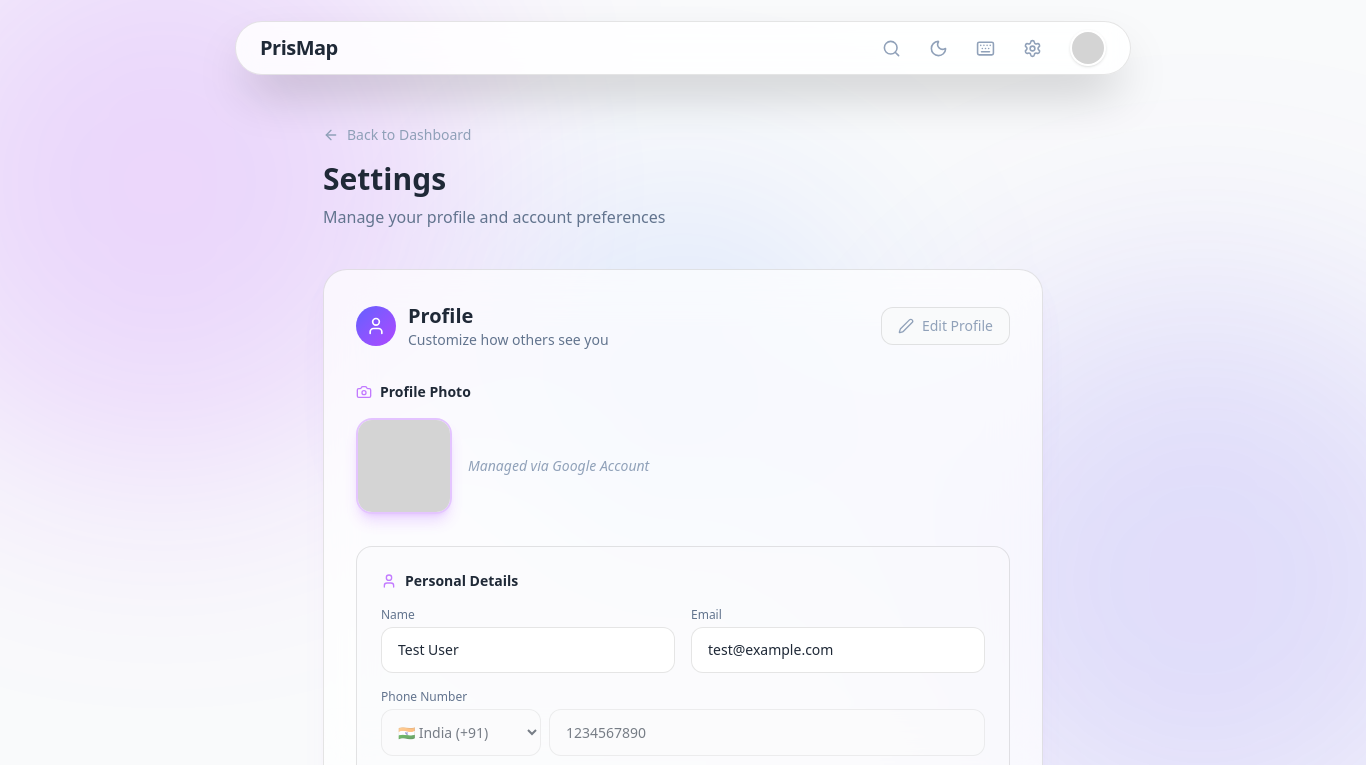
Scenario: Settings Page Integration Tests › shows Save Changes button in edit mode
// Enter edit mode
What coordinates should you click on to do the following:
click the button "Edit Profile"
I would click on:
 (945, 326)
Its box is [881,307,1010,345].
(page scrolled)
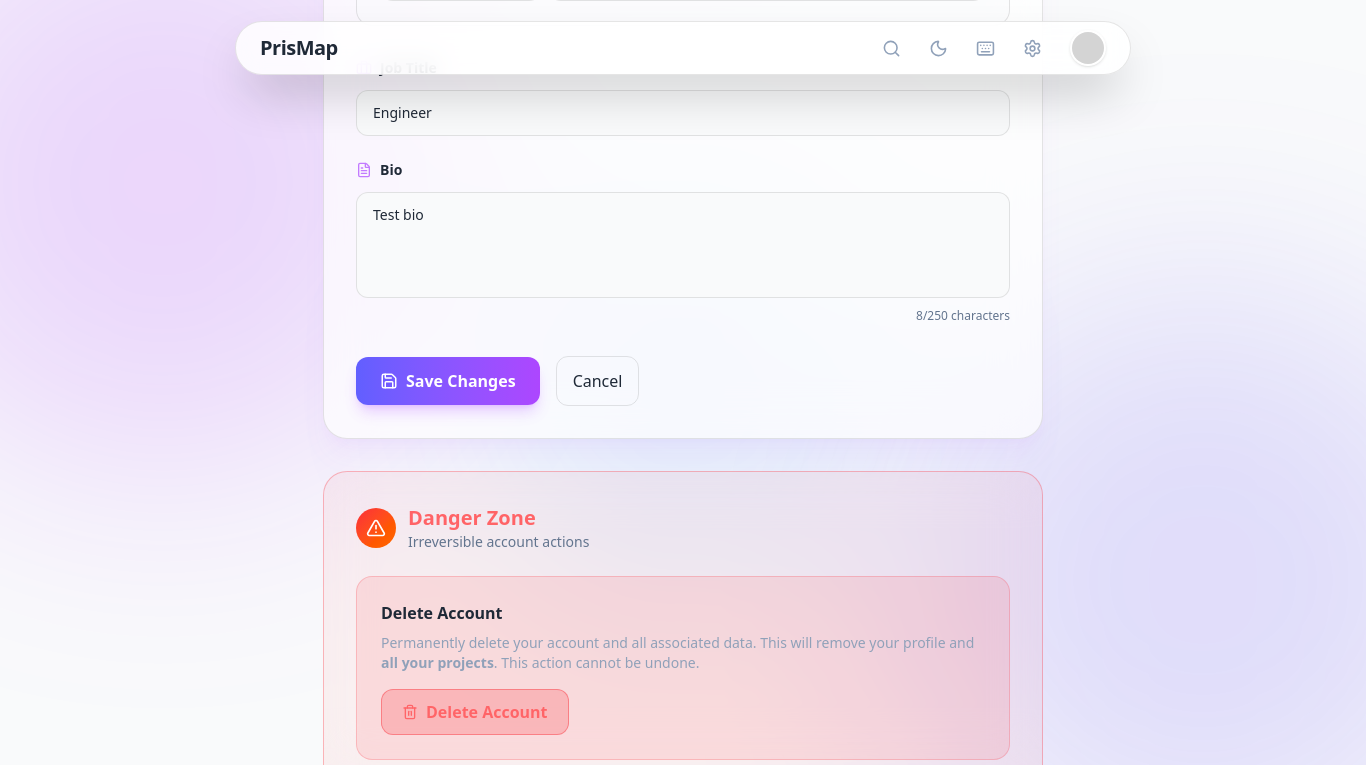
Expected: the button "Save Changes" is shown, [356,357,540,405]
